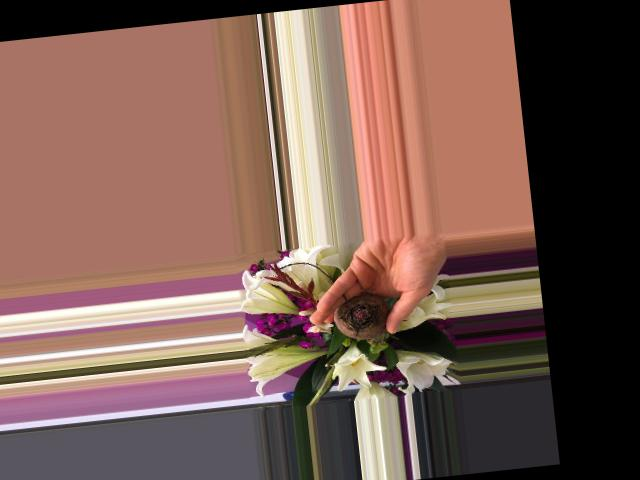beet: (330, 290, 392, 342)
